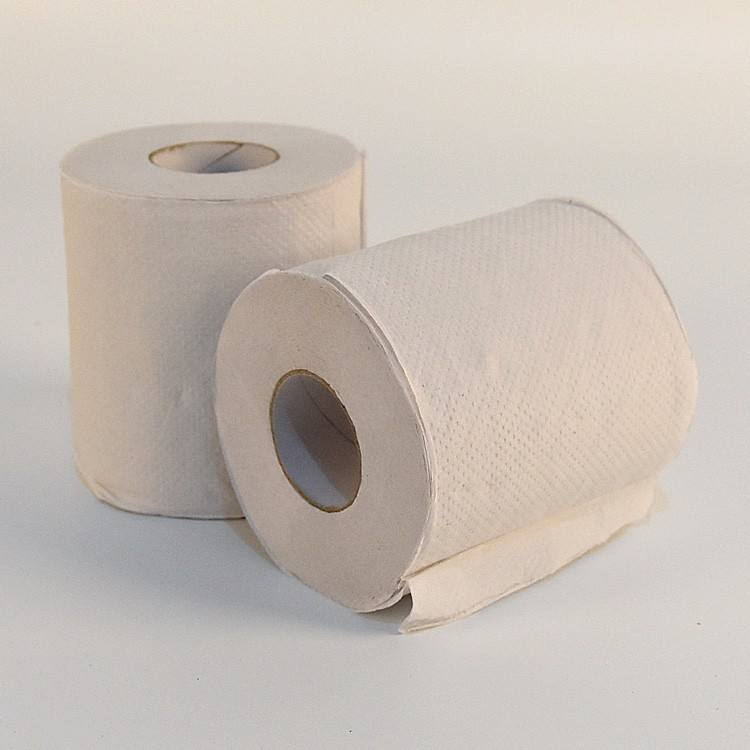Tissue: (202, 199, 701, 632)
